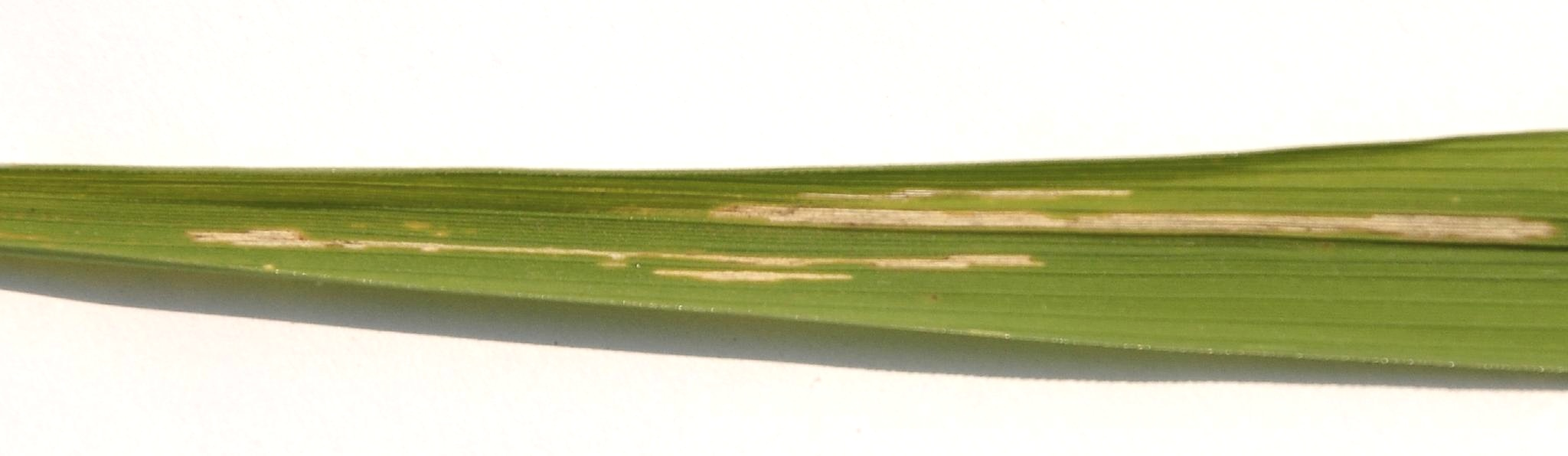Leaf_Blast: (127, 165, 1546, 305)
